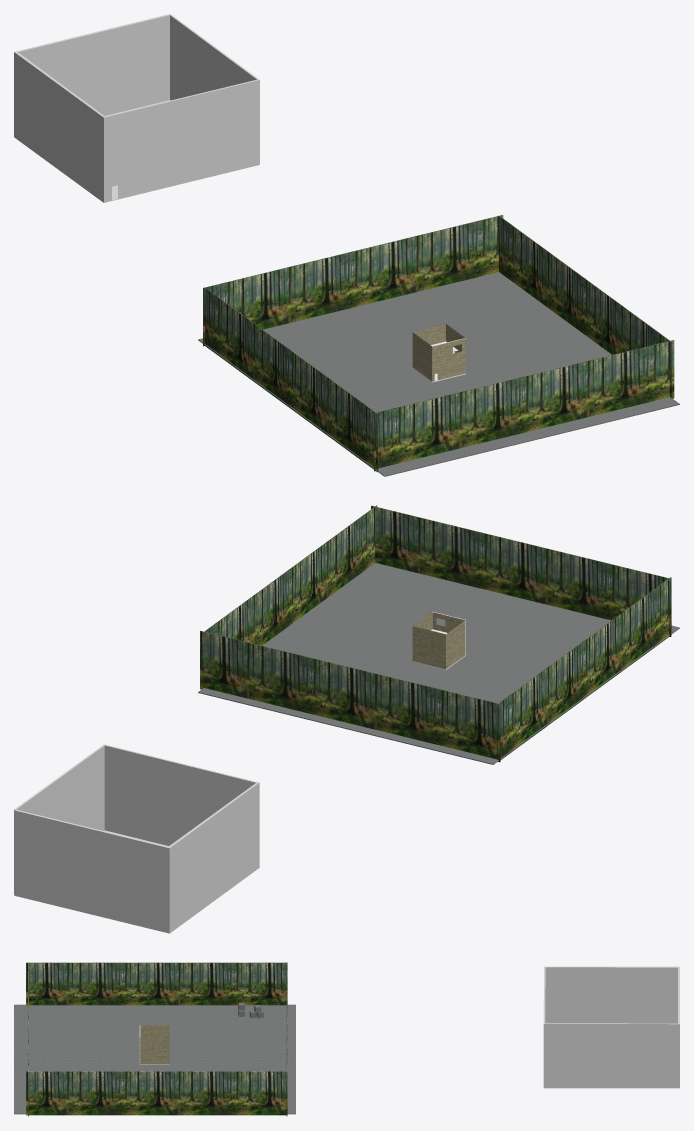
Rendered from house.glb.
The picture shows the model from 3 angles, top to bottom: view 1: azimuth 30°, elevation 25°; view 2: azimuth 150°, elevation 25°; view 3: azimuth 270°, elevation 25°; orthographic projection. The views are drawn at different scales.
Visible parts, largest first — view 1: Cube-col.005, Cube-col, Cube-col.003, Cube-col.004, Cube-col.002, Cube-col.001, Cube-col.006; view 2: Cube-col.005, Cube-col, Cube-col.004, Cube-col.003, Cube-col.002, Cube-col.001, Cube-col.006; view 3: Cube-col, Cube-col.005, Cube-col.001, Cube-col.002, Cube-col.006, Cube-col.004.
Boxes of the visible parts, bbox=[...] form: Cube-col.005: bbox=[14, 14, 259, 202]; Cube-col: bbox=[198, 272, 679, 476]; Cube-col.003: bbox=[374, 340, 674, 471]; Cube-col.004: bbox=[203, 215, 503, 346]; Cube-col.002: bbox=[204, 287, 378, 472]; Cube-col.001: bbox=[498, 215, 672, 398]; Cube-col.006: bbox=[412, 324, 465, 382]; Cube-col.005: bbox=[14, 744, 259, 933]; Cube-col: bbox=[198, 563, 679, 764]; Cube-col.004: bbox=[200, 631, 500, 762]; Cube-col.003: bbox=[371, 505, 671, 636]; Cube-col.002: bbox=[497, 577, 671, 761]; Cube-col.001: bbox=[203, 505, 377, 687]; Cube-col.006: bbox=[412, 611, 465, 670]; Cube-col: bbox=[14, 1002, 295, 1114]; Cube-col.005: bbox=[543, 966, 679, 1088]; Cube-col.001: bbox=[26, 1071, 287, 1115]; Cube-col.002: bbox=[26, 962, 287, 1005]; Cube-col.006: bbox=[139, 1025, 169, 1064]; Cube-col.004: bbox=[286, 963, 287, 1116].
Size of the model in its own units: 89.8 by 24.85 by 228.
4 materials, 3 textured.
